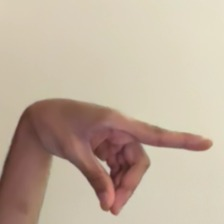P: (6, 85, 219, 224)
